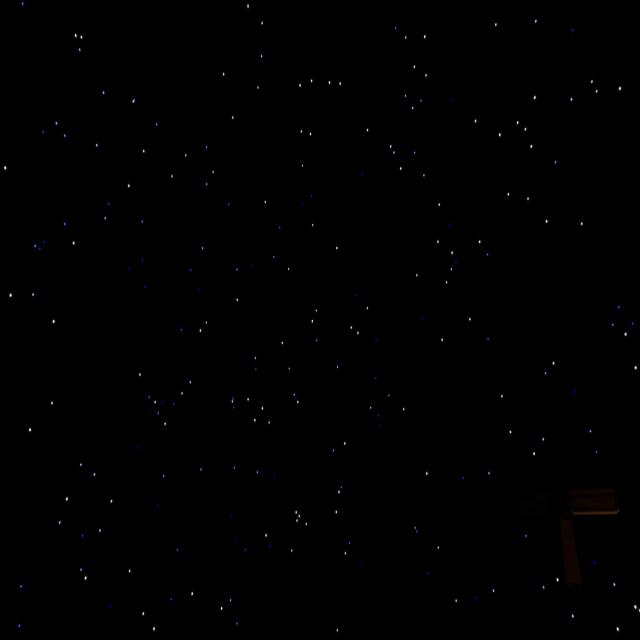satellite: (556, 476, 624, 587)
